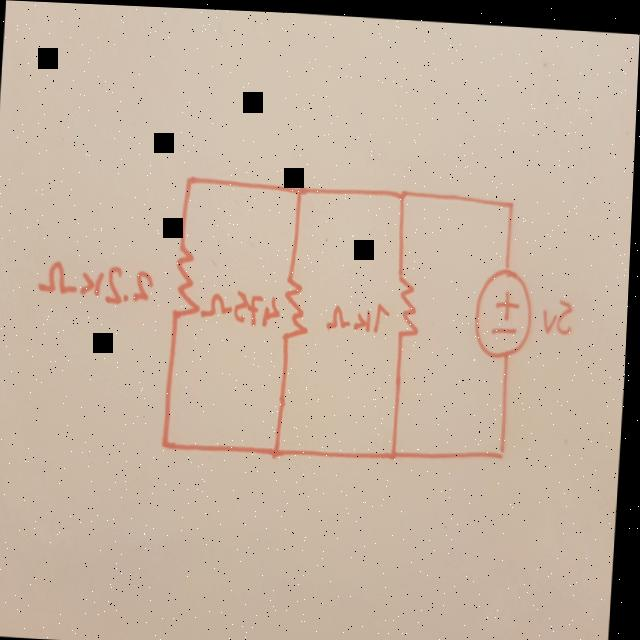junction: (183, 165, 200, 192), (396, 178, 414, 201), (496, 439, 512, 462), (388, 438, 404, 459), (163, 430, 179, 450), (272, 438, 287, 459), (295, 177, 308, 198), (505, 192, 519, 211)
resistor: (393, 261, 427, 344), (171, 242, 204, 326), (281, 269, 314, 348)
source: (474, 259, 539, 355)
text: (39, 258, 158, 306), (200, 283, 287, 328), (322, 295, 394, 334), (539, 283, 580, 334)
